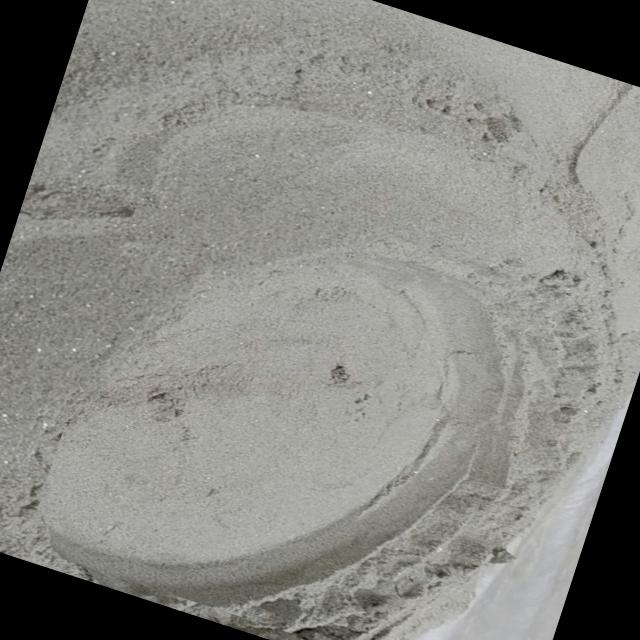C40: (42, 262, 510, 605)
